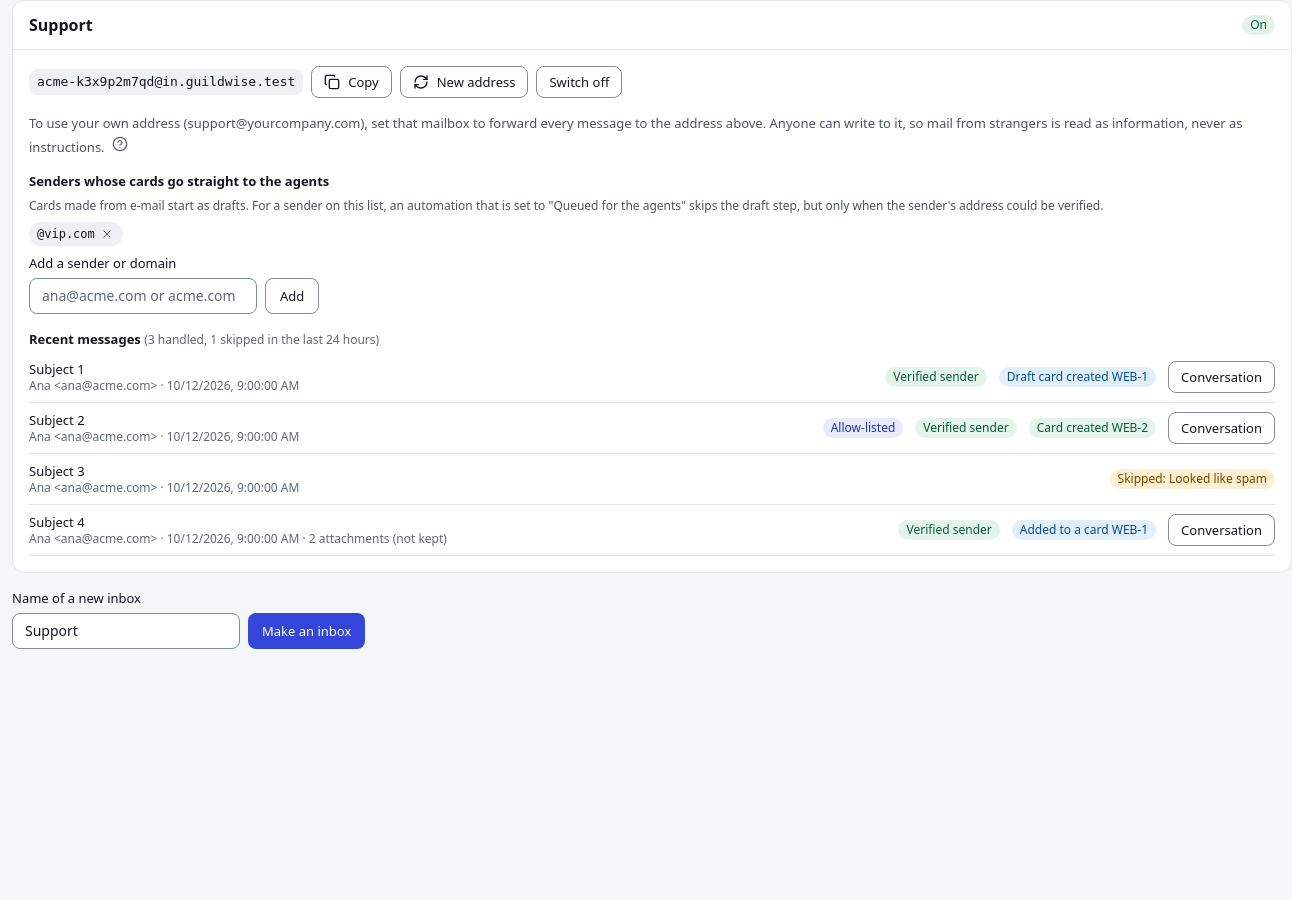
Test: Organization > E-mail inbox › refuses text that is neither an address nor a domain, before asking the server
Type "not an address" into the field labelled "Add a sender or domain" at (143, 296), box left=29, top=278, right=257, bottom=314
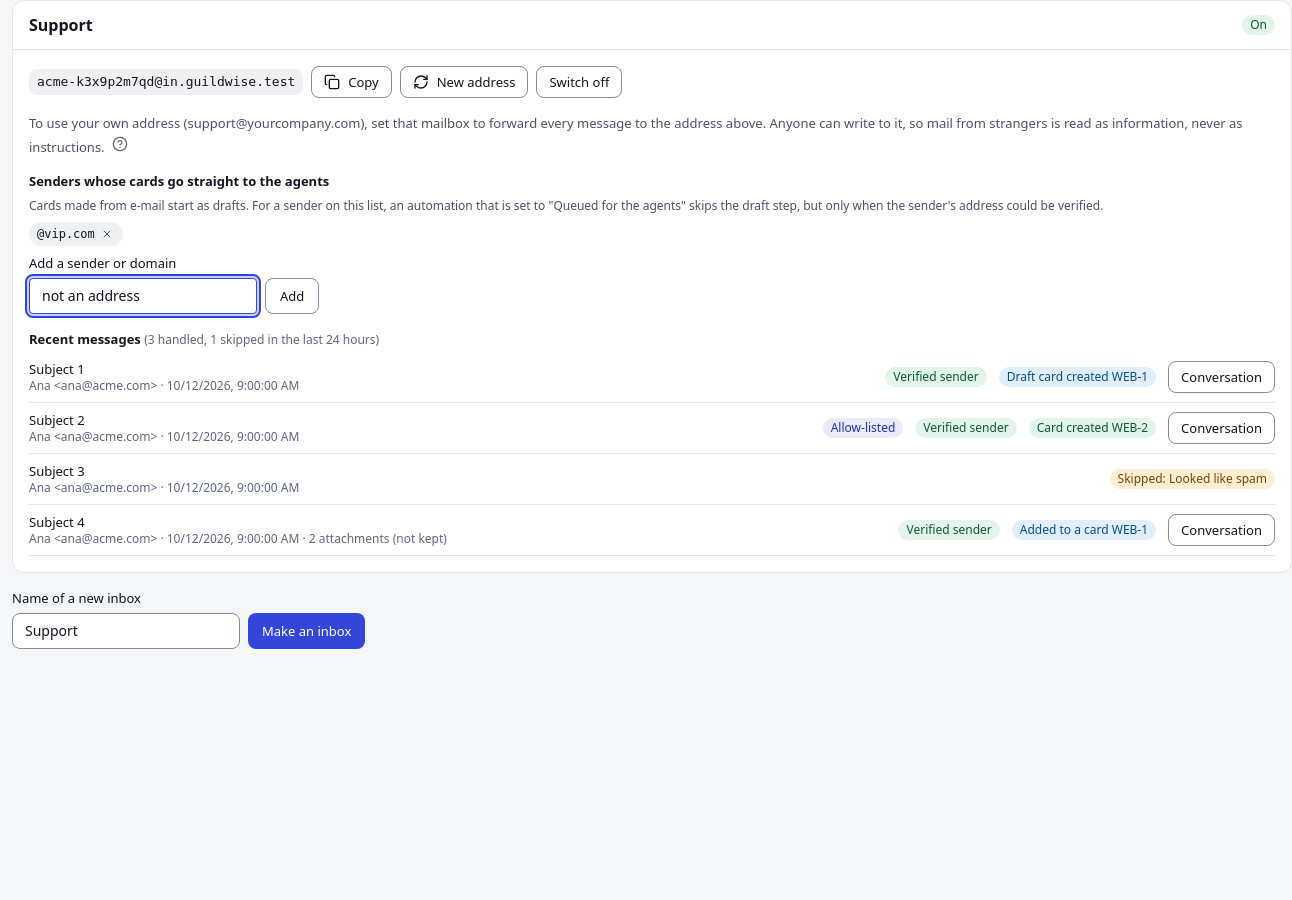
Click the button with test id "allow-add" at (292, 296), box left=265, top=278, right=319, bottom=314
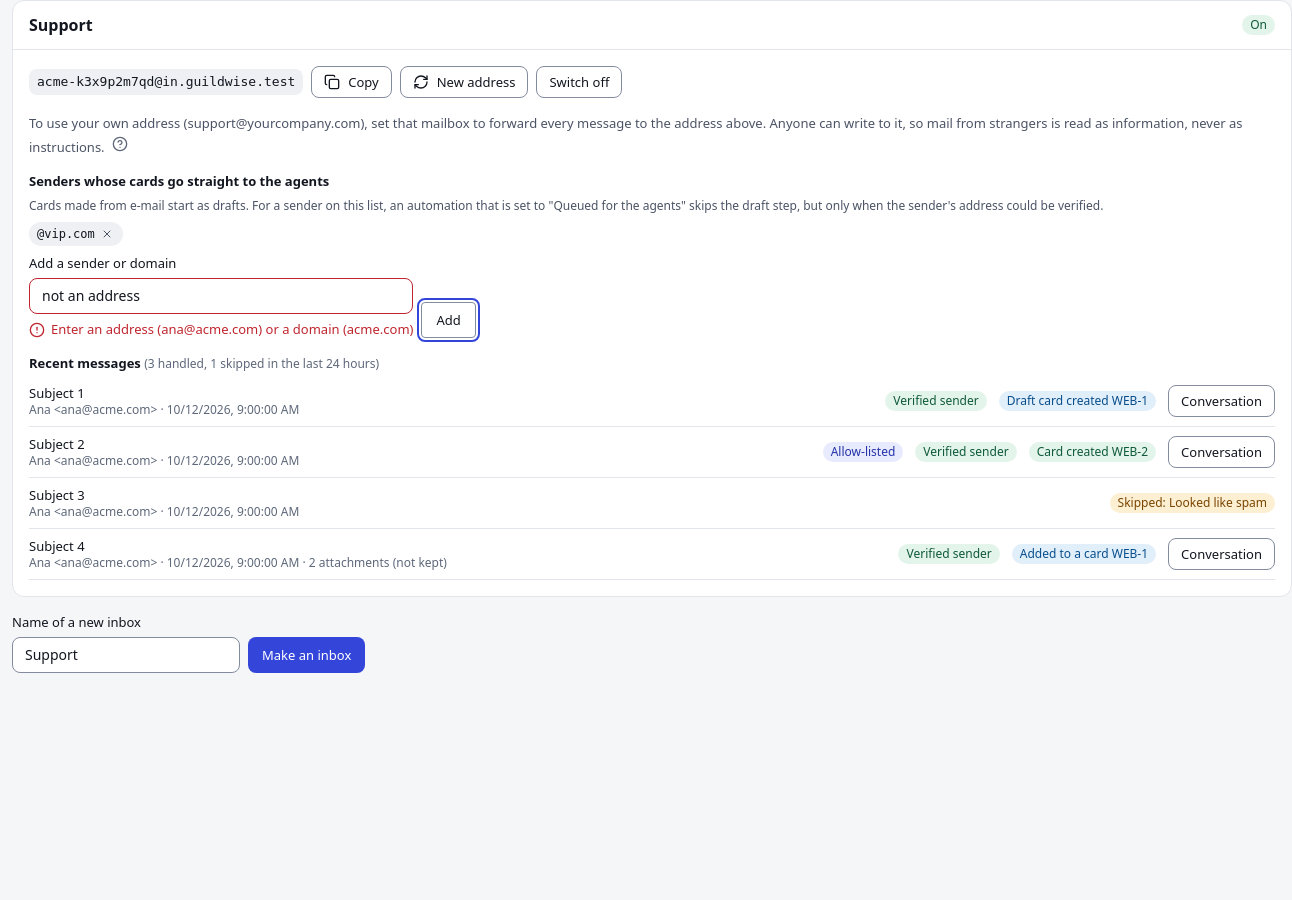
Check: the text "Enter an address (ana@acme.com) or a domain (acme.com)" is shown, box left=29, top=320, right=414, bottom=338
